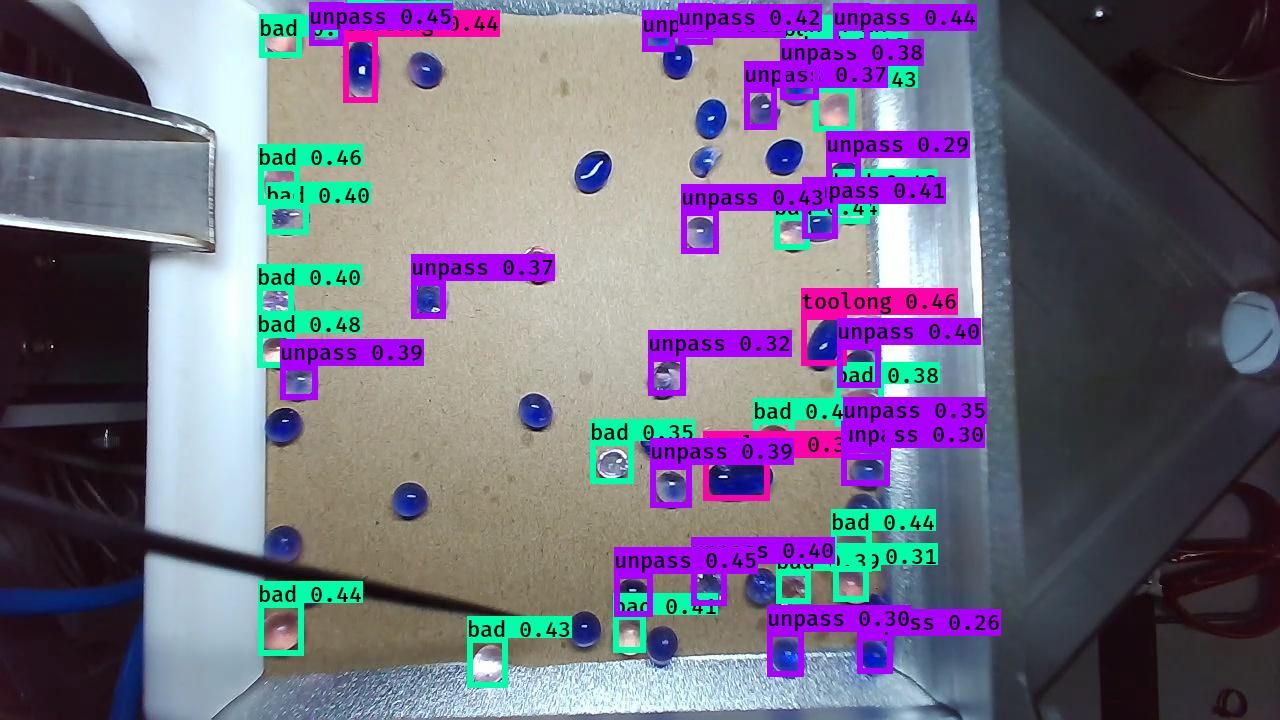bad: (258, 610, 308, 656), (838, 387, 888, 432), (467, 642, 512, 690), (260, 14, 308, 58), (813, 92, 857, 135), (829, 564, 872, 606), (784, 17, 826, 60), (833, 528, 873, 568), (517, 246, 556, 286), (345, 1, 384, 39), (259, 334, 299, 371), (262, 169, 303, 205), (612, 615, 647, 657), (773, 218, 812, 255), (269, 206, 314, 237), (260, 288, 296, 326), (755, 425, 793, 460), (775, 577, 813, 610), (834, 192, 869, 227), (839, 51, 872, 88), (804, 55, 840, 88), (596, 449, 631, 482)
pass: (572, 148, 614, 197), (638, 422, 686, 463), (390, 481, 432, 524), (564, 607, 604, 651), (764, 137, 805, 178), (843, 492, 884, 532), (263, 408, 305, 447), (261, 526, 304, 564), (517, 393, 556, 433), (646, 626, 681, 669), (693, 99, 727, 138), (663, 43, 692, 80)
toolong: (706, 459, 777, 504), (802, 312, 849, 373), (343, 37, 381, 103)
unpass: (834, 7, 877, 54), (798, 201, 843, 245), (839, 349, 885, 390), (767, 637, 811, 678), (854, 635, 895, 678), (648, 358, 688, 402), (651, 468, 692, 510), (405, 51, 445, 92), (691, 565, 729, 608), (849, 455, 894, 491), (843, 313, 886, 350), (742, 569, 779, 611), (826, 157, 864, 196), (613, 577, 650, 616), (308, 5, 344, 45), (845, 429, 891, 460), (644, 10, 677, 52), (683, 217, 717, 256), (780, 71, 816, 107), (677, 9, 714, 44), (412, 282, 446, 319), (283, 368, 317, 400)
